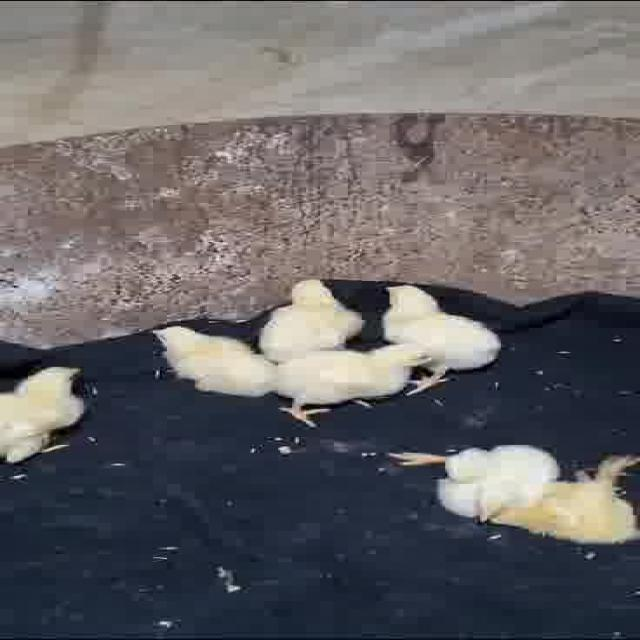poussin: (270, 330, 430, 431), (385, 280, 508, 392), (396, 440, 552, 528), (495, 459, 638, 549), (145, 315, 278, 396), (0, 364, 99, 460), (260, 276, 367, 358)
